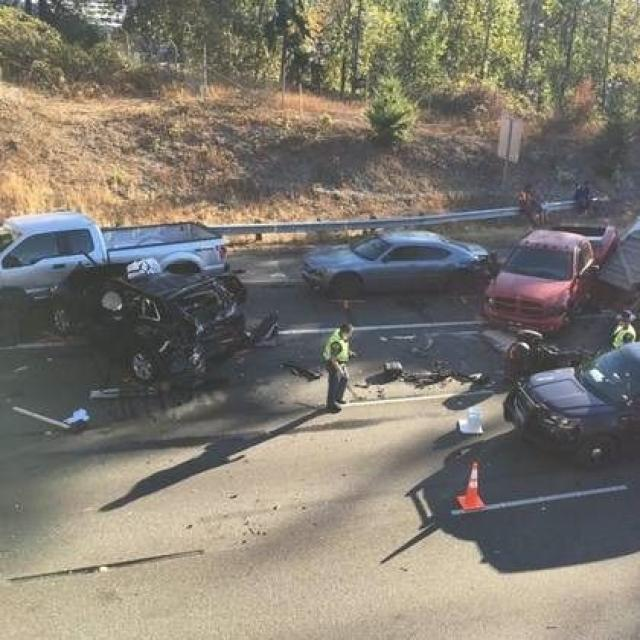traffic_incident: (55, 243, 294, 428), (372, 297, 602, 404)
